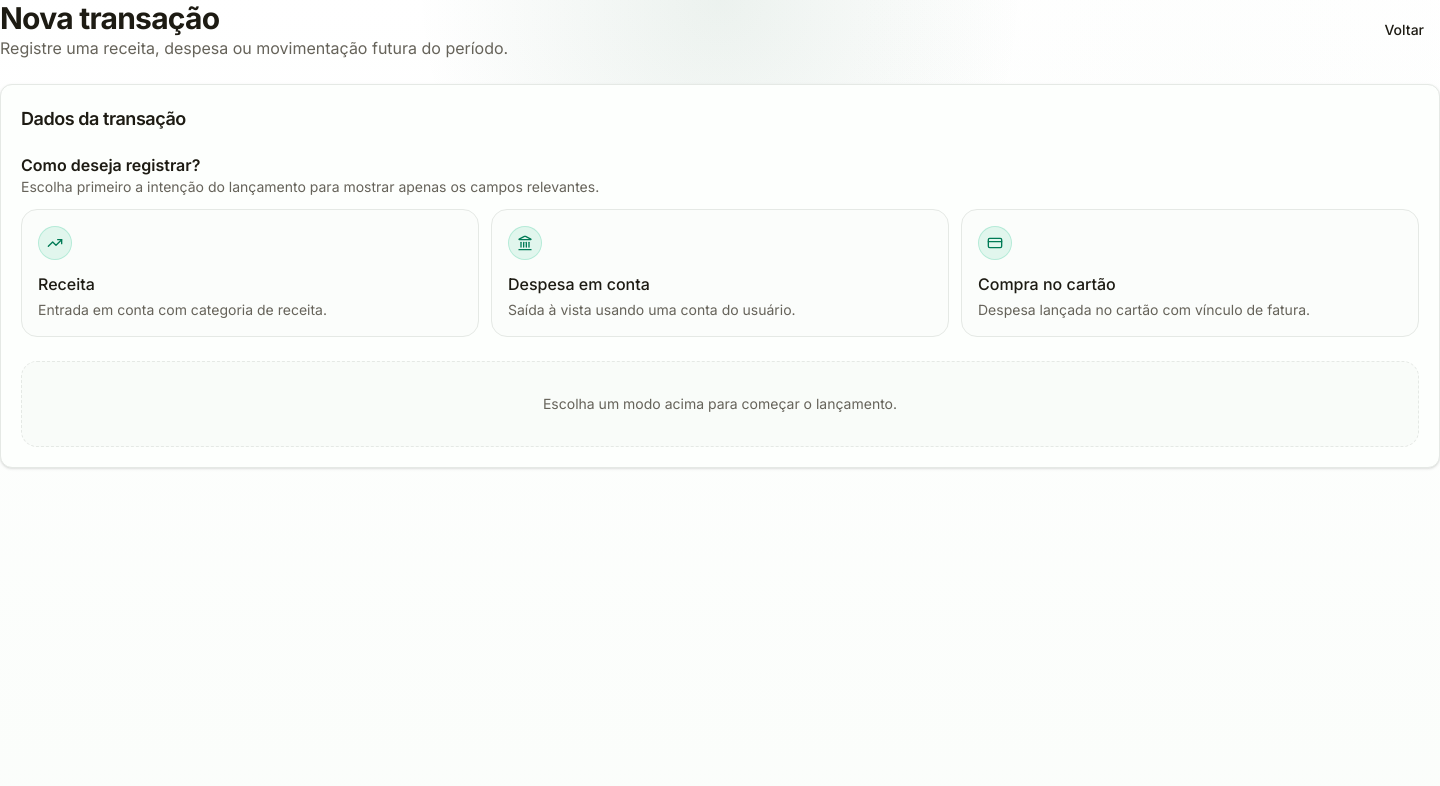
it: transaction form intent modes › starts with only the intent selector and reveals account-specific fields for cash expense
Expected: the heading "Como deseja registrar?" is shown, 21,155 -> 200,175
Click the button "Despesa em conta Saída à vista usando uma conta do usuário." at {"x": 525, "y": 243}, box 491,209 -> 949,337
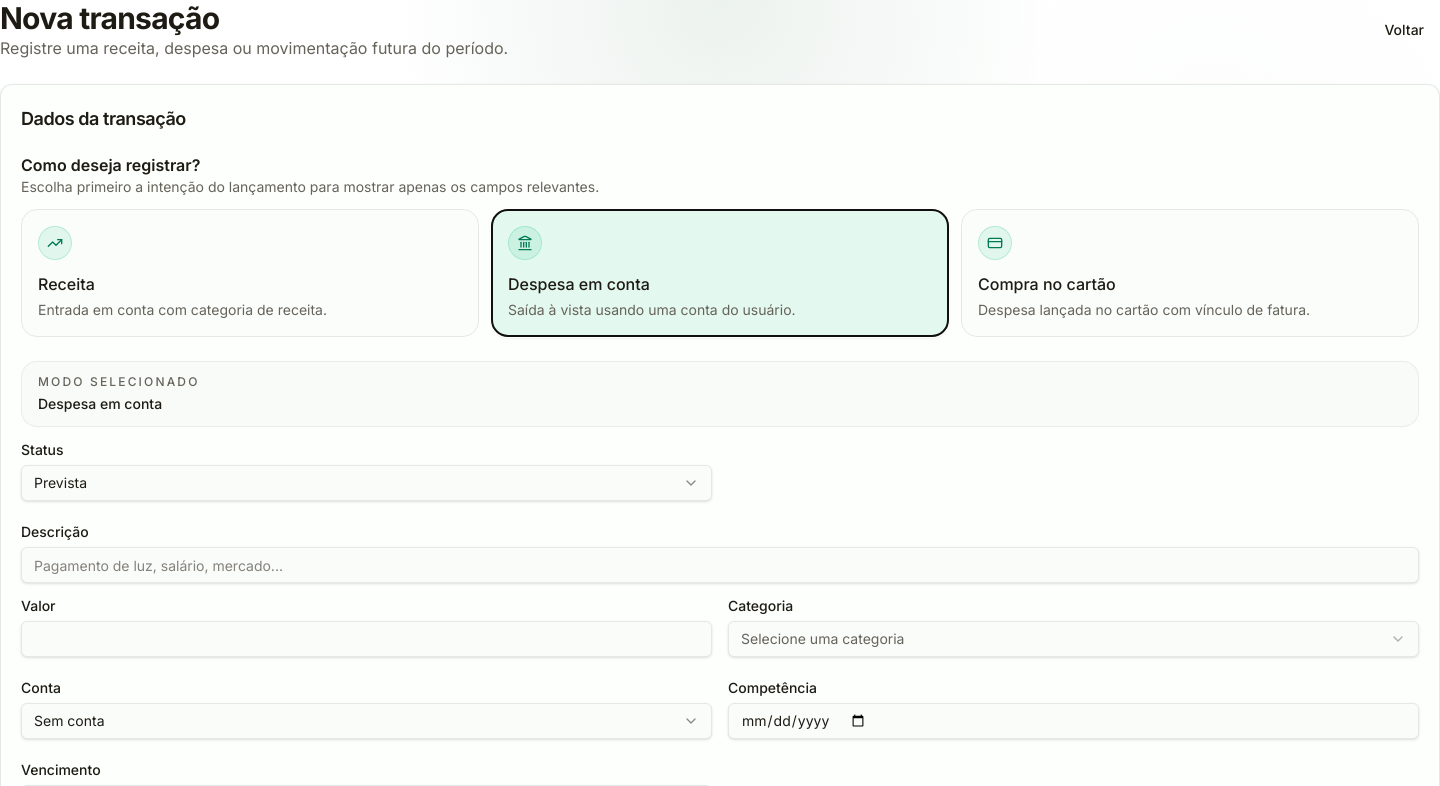
Now the text "Conta" is shown, box 21,679 -> 61,696
